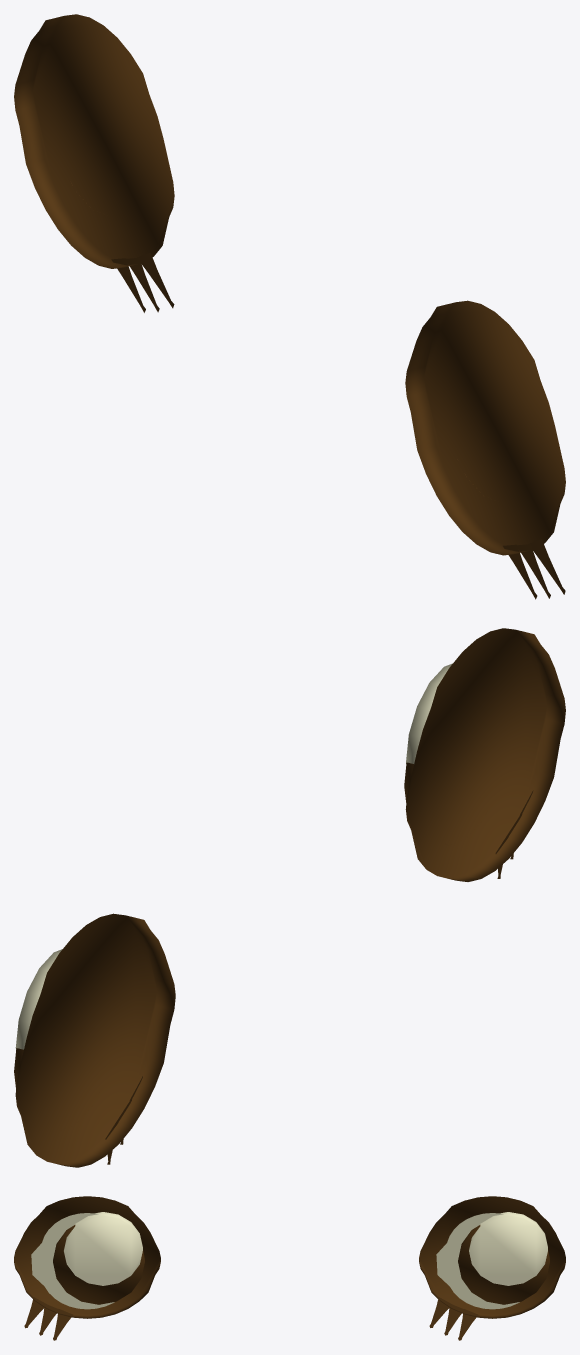
The model's file is AgnaEyes.glb.
3 renders of one model, top to bottom at view 1: azimuth 30°, elevation 25°; view 2: azimuth 150°, elevation 25°; view 3: azimuth 270°, elevation 25°, orthographic. The views are drawn at different scales.
Visible parts, largest first — view 1: AgnaEyes; view 2: AgnaEyes; view 3: AgnaEyes.
Part boxes in pixels (x1,y1,x2,y2): AgnaEyes: [14, 14, 565, 599]; AgnaEyes: [14, 628, 565, 1167]; AgnaEyes: [14, 1196, 565, 1340].
Size of the model in its own units: 0.1154 by 0.815 by 2.96.
